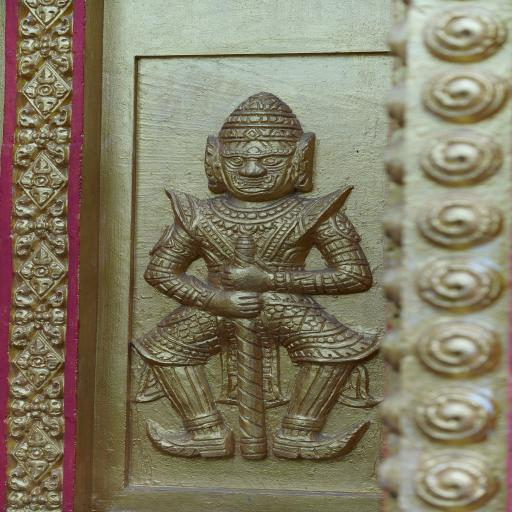hoa: (395, 443, 512, 512), (399, 311, 512, 381), (406, 248, 512, 318), (398, 377, 512, 440), (415, 61, 511, 126), (415, 2, 510, 67), (415, 125, 508, 191), (415, 187, 507, 251)
la: (8, 374, 67, 441), (12, 194, 72, 258), (13, 104, 71, 168), (12, 283, 66, 350), (16, 61, 73, 120), (13, 150, 66, 210), (8, 424, 62, 482), (20, 16, 72, 76), (12, 243, 66, 300), (10, 335, 63, 391), (8, 463, 63, 512), (23, 0, 69, 25)
than: (137, 82, 381, 470)
